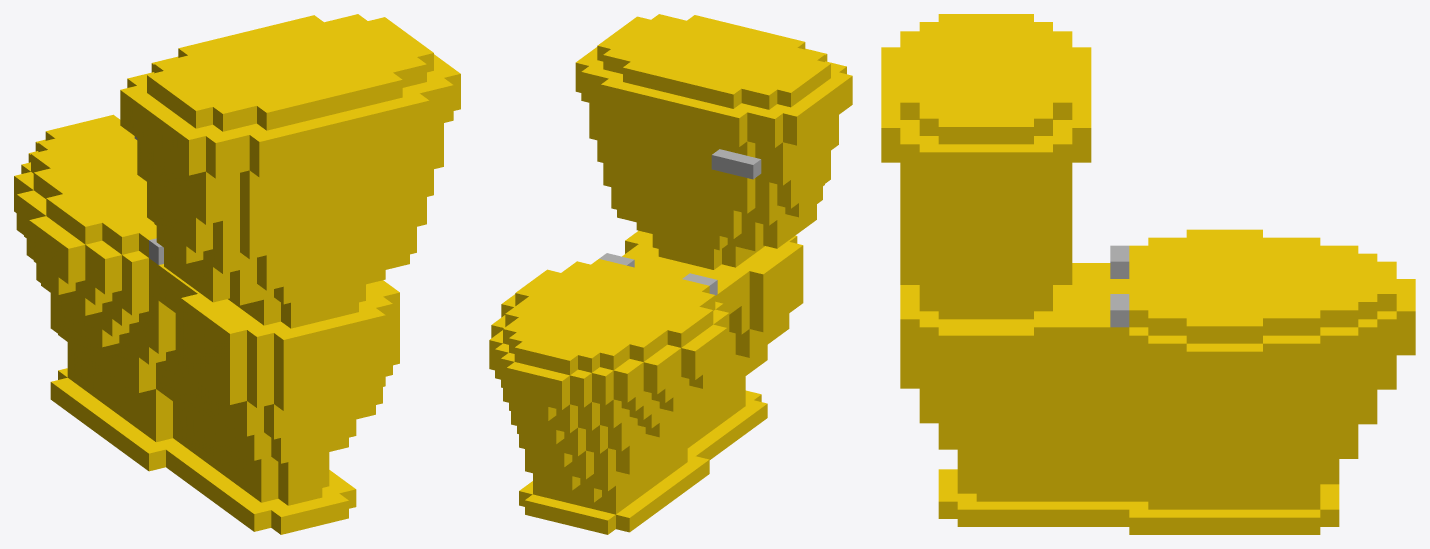
Rendered from GoldenThrone.obj.
3 renders of one model, left to right at view 1: azimuth 30°, elevation 25°; view 2: azimuth 150°, elevation 25°; view 3: azimuth 270°, elevation 25°, orthographic. The views are drawn at different scales.
Size of the model in its own units: 1.6 by 2.5 by 2.8.
1 material, 1 textured.
